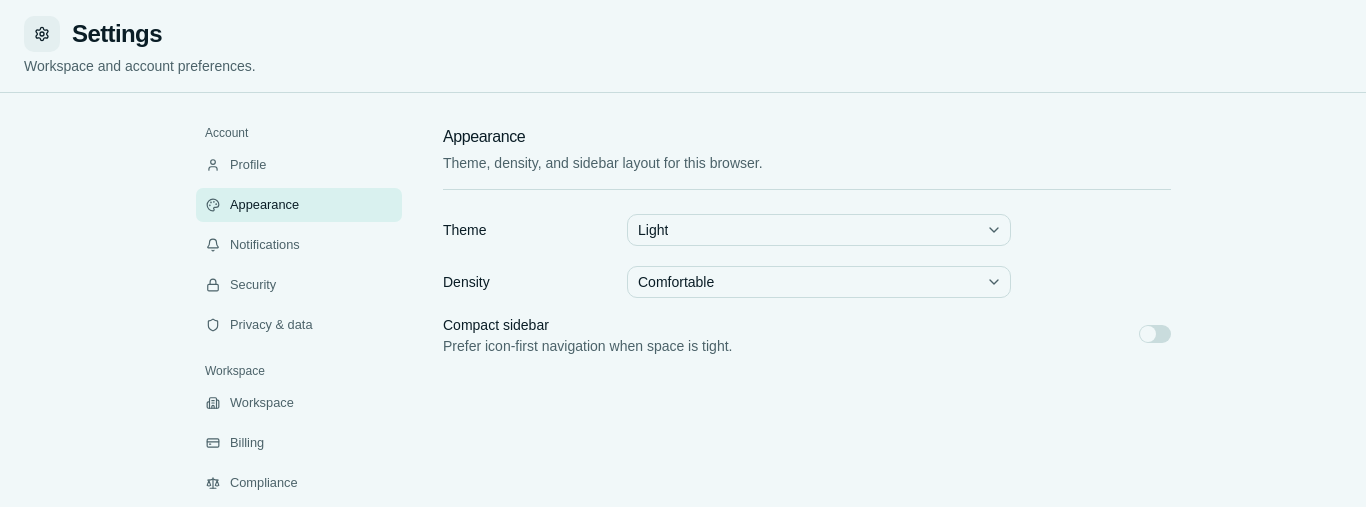
Test: SettingsPage › exposes a theme select for light, dark, and system
The image size is (1366, 507).
Click the dropdown named "Theme".
click(653, 230)  # box [627,214,1011,246]
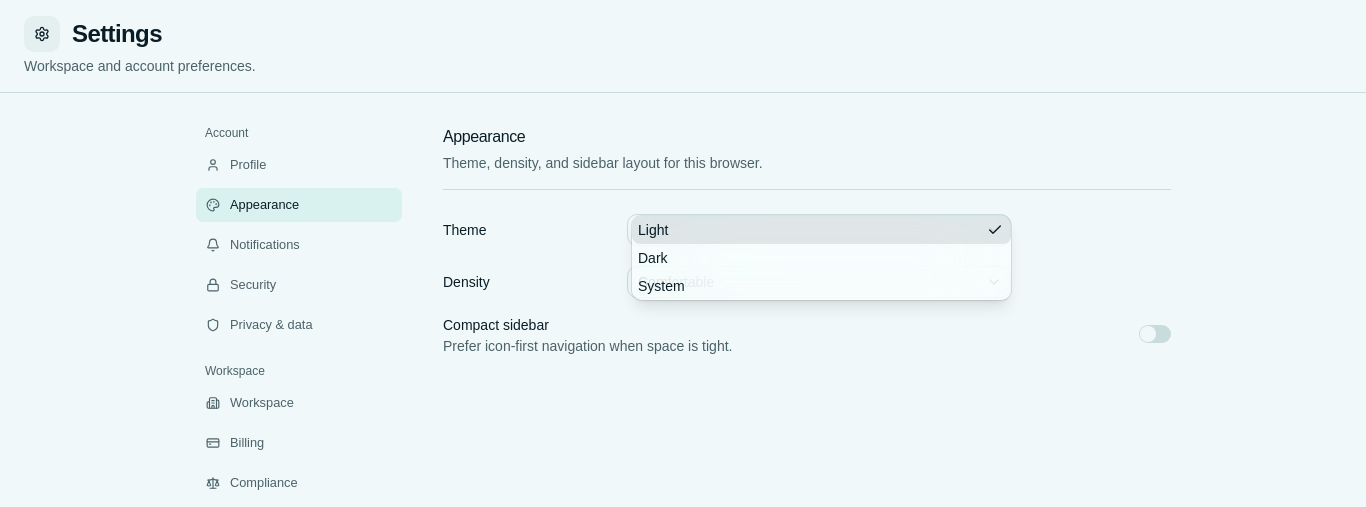
Result: the option "Light" is shown at [632,216,1011,244]
Result: the option "Dark" is shown at [638,250,668,266]
Result: the option "System" is shown at [638,278,685,294]
